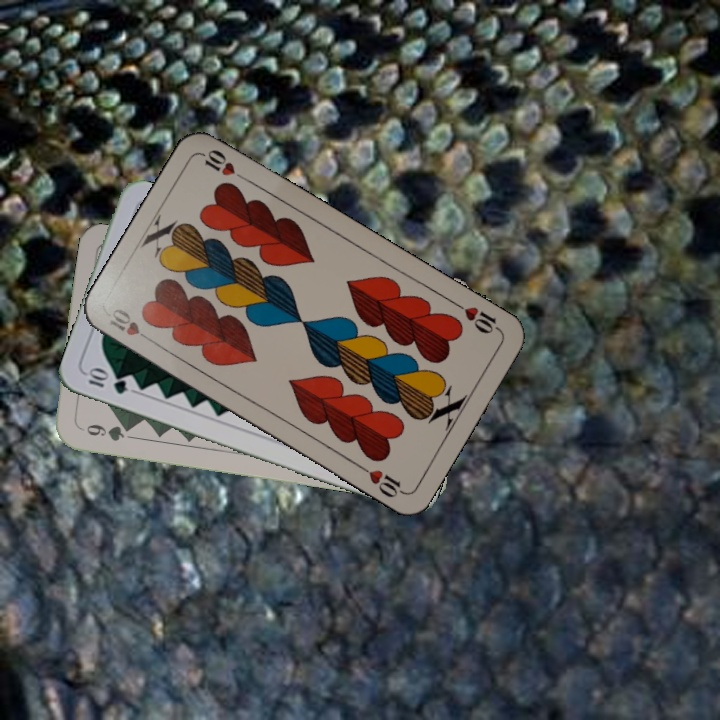G10: (82, 365, 130, 397)
G9: (75, 420, 135, 444)
H10: (105, 304, 157, 346), (449, 297, 503, 337)
